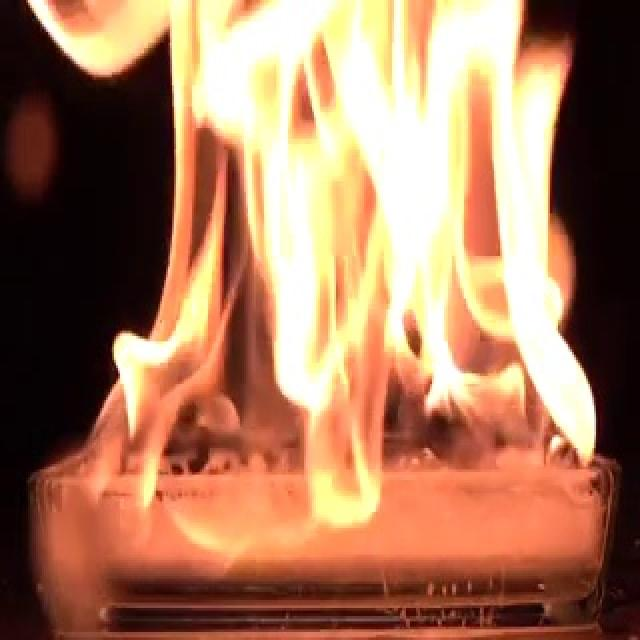fire: (24, 0, 605, 529)
